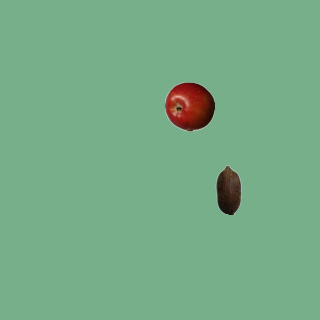Apple Braeburn: (164, 81, 214, 131)
Nut Pecan: (203, 164, 253, 214)
